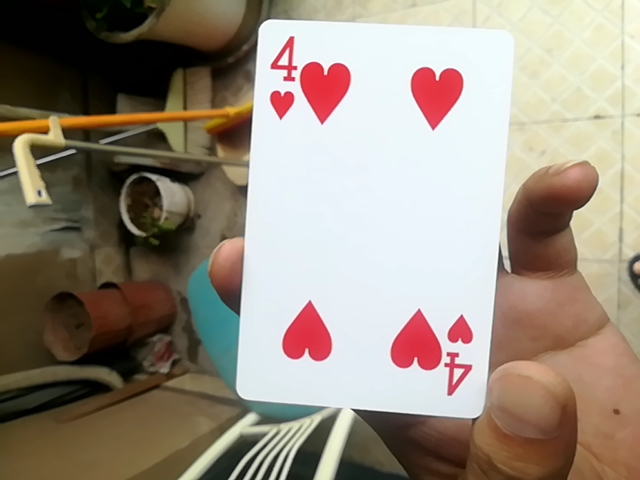hx 4: (241, 17, 523, 428)
